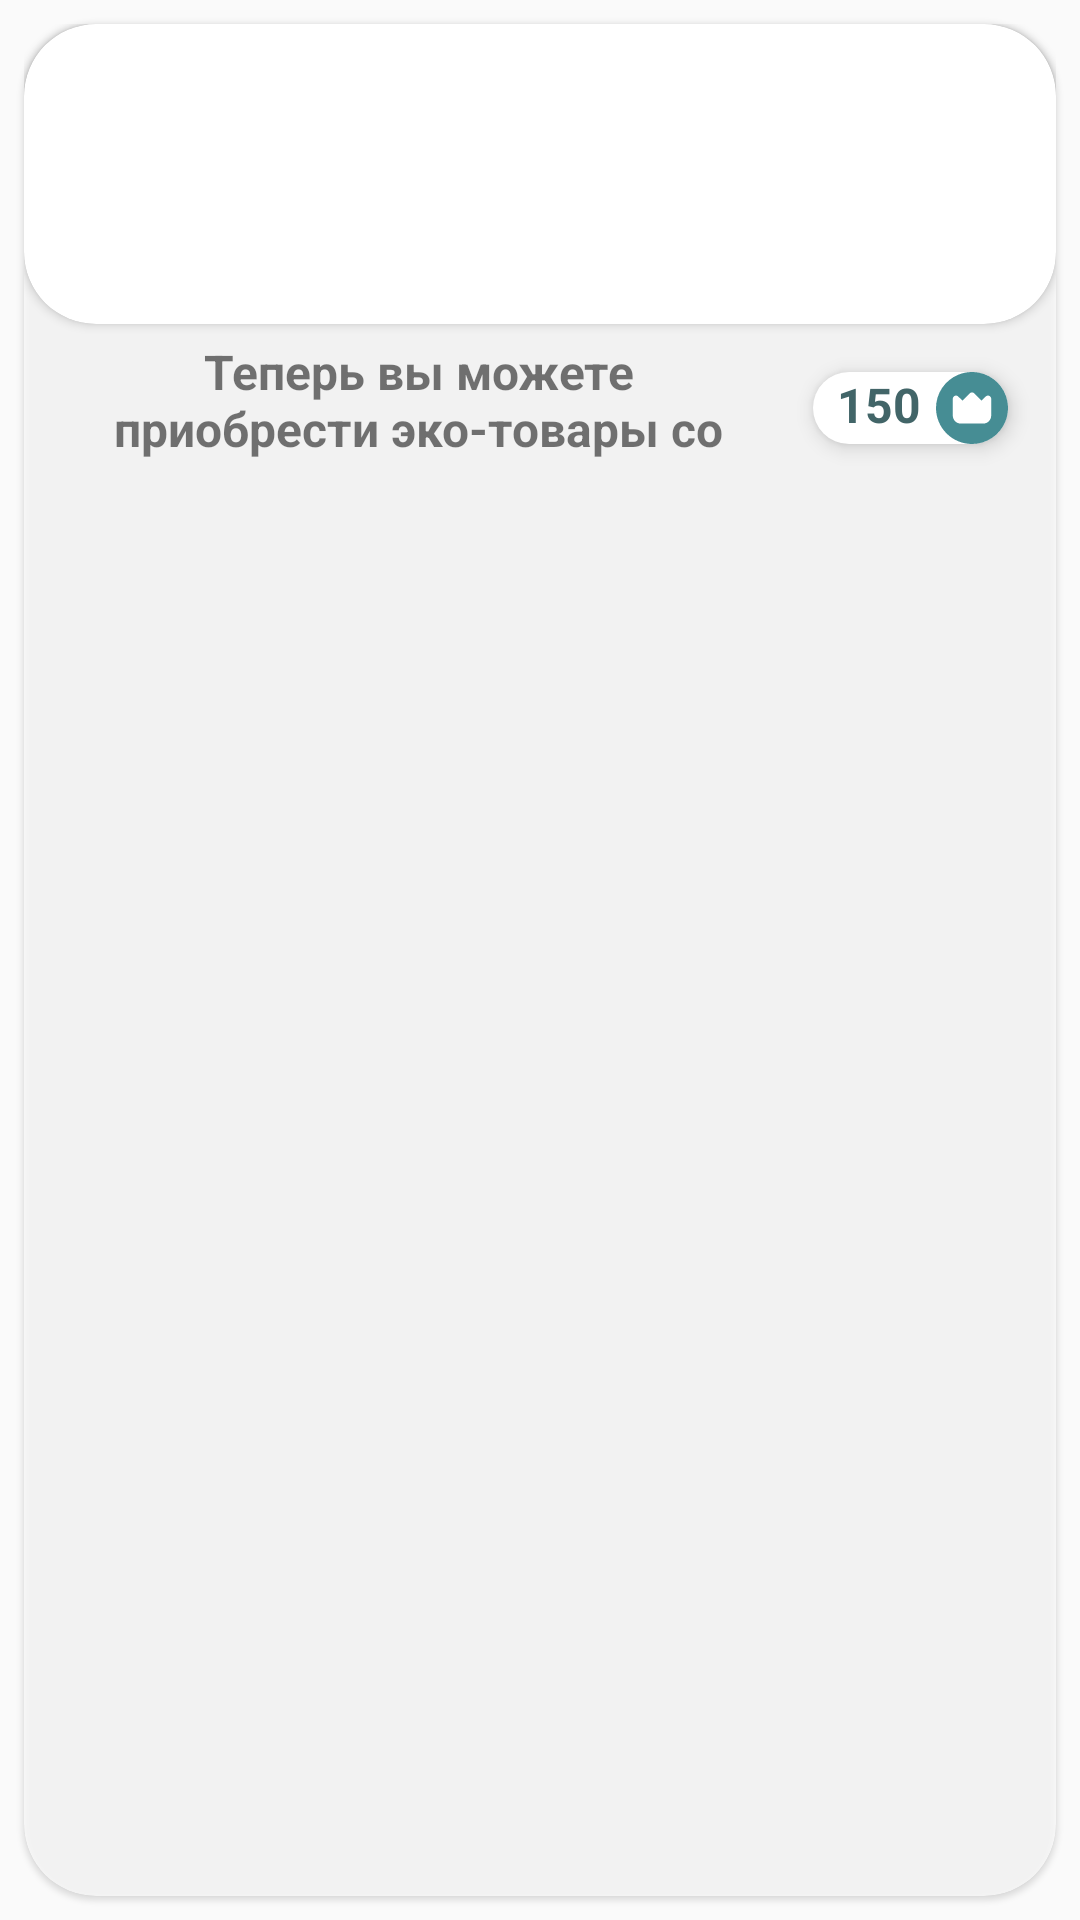

Locate icon controls on the screen. Image size 1080 x 1920, boxes as (x1, y1, x2, y2).
crown: (936, 372, 1008, 444)
